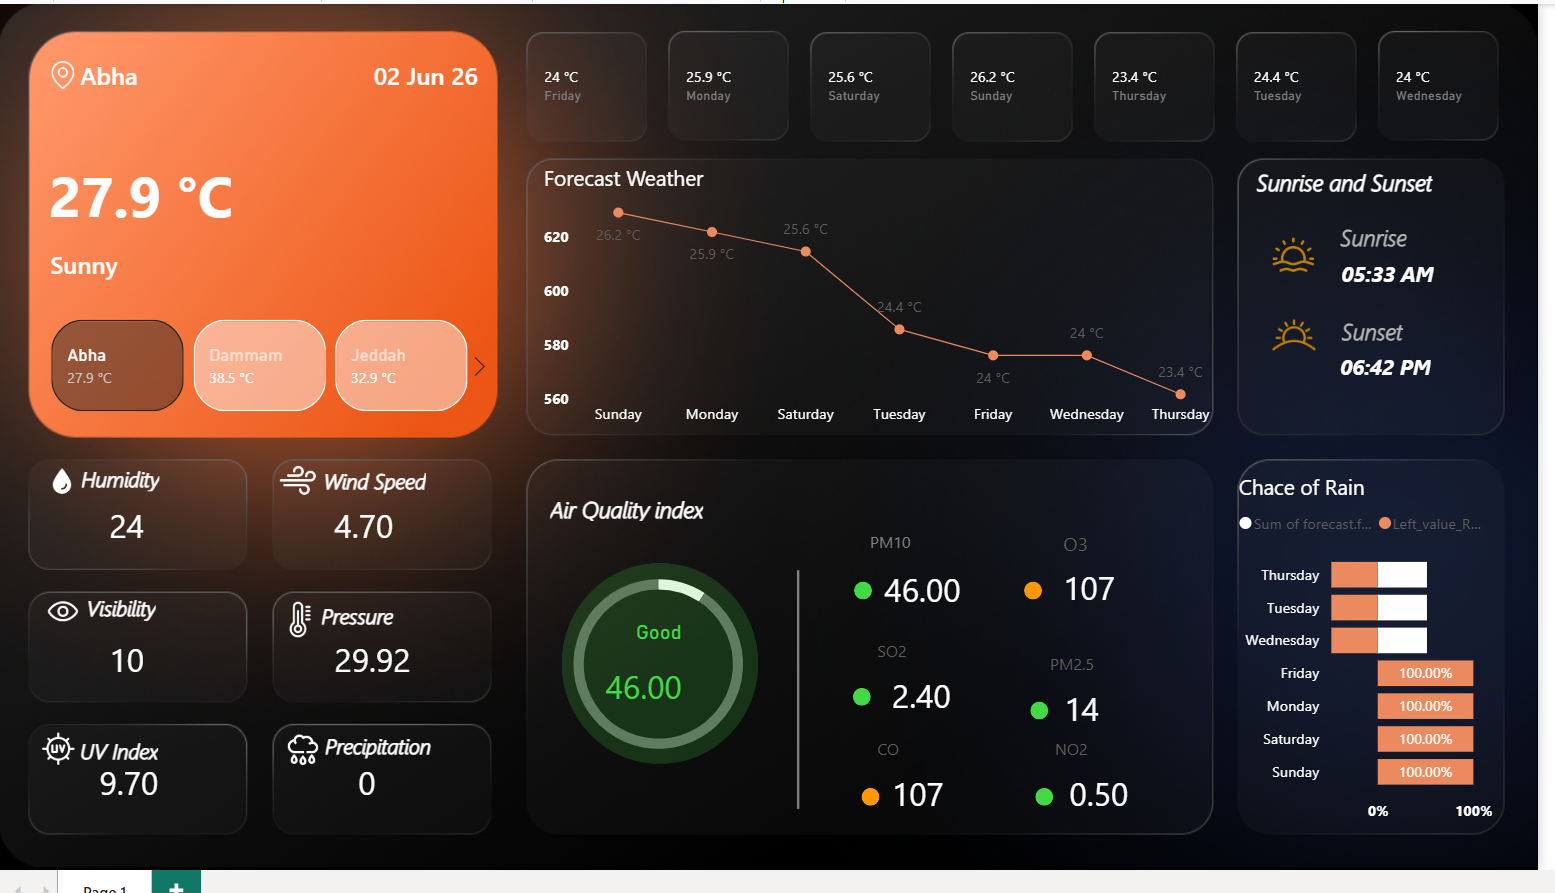

Layout of this report page (visuals, bound fields, positions):
{"tool":"powerbi","page":{"name":"Page 1","canvas":[1280,720],"ordinal":0},"visuals":[{"type":"advancedSlicerVisual","fields":{"Values":["Locations.location.name"]},"box":[19.2,258,396.6,86.4],"z":0},{"type":"shape","box":[41.2,98.8,300.5,118],"z":1000},{"type":"shape","box":[42.5,186.2,102.5,60],"z":2000},{"type":"shape","box":[67.2,0,300.5,118],"z":3000},{"type":"shape","box":[247,0,150.9,118],"z":4000},{"type":"image","box":[28.8,42.5,48,32.9],"z":5000},{"type":"cardVisual","fields":{"Data":["Sum(Current.current.humidity)"]},"box":[75.1,394.2,117.7,70.9],"z":6000},{"type":"cardVisual","fields":{"Data":["Sum(Current.current.wind_kph)"]},"box":[262.3,394.2,117.7,70.9],"z":7000},{"type":"cardVisual","fields":{"Data":["Sum(Current.current.pressure_in)"]},"box":[262.3,504.7,117.7,70.9],"z":8000},{"type":"cardVisual","fields":{"Data":["Sum(Current.current.vis_km)"]},"box":[75.1,504.7,117.7,70.9],"z":9000},{"type":"cardVisual","fields":{"Data":["Sum(Current.current.uv)"]},"box":[66.6,606.8,117.7,70.9],"z":10000},{"type":"cardVisual","fields":{"Data":["Sum(Forcast_Day.current.precip_in)"]},"box":[282.1,606.8,117.7,70.9],"z":11000},{"type":"advancedSlicerVisual","fields":{"Values":["Forcast_Day.Day_Name"]},"box":[435.3,0,833.7,134.7],"z":12000},{"type":"lineChart","title":"Forecast Weather","fields":{"Y":["Sum(Forcast_Day.forecast.forecastday.day.avgtemp_c)"],"Category":["Forcast_Day.Day_Name"]},"box":[448.1,133.4,570.8,225.8],"z":13000},{"type":"shape","box":[1116.2,208.8,116.2,30],"z":14000},{"type":"shape","box":[1115,286.2,116.2,30],"z":15000},{"type":"shape","box":[1115,178.8,116.2,30],"z":16000},{"type":"shape","box":[1116.2,256.2,116.2,30],"z":17000},{"type":"shape","box":[1045,135,166.2,22.5],"z":18000},{"type":"image","box":[1051.2,186.2,48.8,45],"z":19000},{"type":"image","box":[1045,246.2,62.5,57.5],"z":20000},{"type":"hundredPercentStackedBarChart","title":"Chace of Rain","fields":{"Y":["Sum(Forcast_Day.forecast.forecastday.day.daily_chance_of_rain)","Current.Left_value_Rain"],"Category":["Forcast_Day.Day_Name"]},"box":[1026.2,390,221.2,300],"z":21000},{"type":"shape","box":[458.8,407.5,166.2,22.5],"z":22000},{"type":"cardVisual","fields":{"Data":["Sum(Current.current.air_quality.o3)"]},"box":[867.5,418.8,87.5,101.2],"z":23000},{"type":"cardVisual","fields":{"Data":["Sum(Current.current.air_quality.co)"]},"box":[725,605,117.5,71.2],"z":24000},{"type":"cardVisual","fields":{"Data":["Sum(Current.current.air_quality.no2)"]},"box":[872.5,605,117.5,71.2],"z":25000},{"type":"cardVisual","fields":{"Data":["Sum(Current.current.air_quality.pm2_5)"]},"box":[868.8,533.8,117.5,71.2],"z":26000},{"type":"cardVisual","fields":{"Data":["Sum(Current.current.air_quality.so2)"]},"box":[725,523.8,117.5,71.2],"z":27000},{"type":"cardVisual","fields":{"Data":["Sum(Current.current.air_quality.pm10)"]},"box":[718.8,433.8,123.8,75],"z":28000},{"type":"shape","box":[711.2,480,15,15],"z":29000},{"type":"shape","box":[717.5,651.2,15,15],"z":30000},{"type":"shape","box":[710,568.8,15,15],"z":31000},{"type":"shape","box":[852.5,480,15,15],"z":32000},{"type":"shape","box":[857.5,580,15,15],"z":33000},{"type":"shape","box":[861.2,651.2,15,15],"z":34000},{"type":"shape","box":[610,471.2,108.8,198.8],"z":35000},{"type":"cardVisual","fields":{"Data":["Sum(Current.current.air_quality.pm10)"]},"box":[487.5,512.5,122.5,82.5],"z":36000},{"type":"donutChart","fields":{"Y":["Sum(Current.current.air_quality.pm10)","_Measures.Left_value_PM10"]},"box":[455,440,186.2,218.8],"z":37000},{"type":"shape","box":[467.5,465,163.8,167.5],"z":38000},{"type":"shape","box":[269.8,384.9,166.3,22.1],"z":38001},{"type":"shape","box":[68.6,380.2,93,26.7],"z":38002},{"type":"shape","box":[268.6,496.5,166.3,22.1],"z":38003},{"type":"shape","box":[73.3,490.7,166.3,22.1],"z":38004},{"type":"shape","box":[270.9,604.7,166.3,22.1],"z":38005},{"type":"shape","box":[67.4,609.3,166.3,22.1],"z":38006},{"type":"image","box":[230.2,600,44.2,40.7],"z":38007},{"type":"image","box":[230.2,480.2,39.5,62.8],"z":38008},{"type":"image","box":[30.2,597.7,38.4,43],"z":38009},{"type":"image","box":[31.4,484.9,44.2,39.5],"z":38010},{"type":"image","box":[227.9,372.1,41.9,47.7],"z":38011},{"type":"image","box":[36,377.9,32.6,37.2],"z":38013}]}

Visuals, with their boxes on the page's 1280x720 design canvas (x1, y1, x2, y2). These are canvas units, not pixel positions in the 1555x893 screenshot, which may show the page scaled, cropped or inside an application window:
advancedSlicerVisual - Locations.location.name: [x1=19, y1=258, x2=416, y2=344]
shape: [x1=41, y1=99, x2=342, y2=217]
shape: [x1=42, y1=186, x2=145, y2=246]
shape: [x1=67, y1=0, x2=368, y2=118]
shape: [x1=247, y1=0, x2=398, y2=118]
image: [x1=29, y1=42, x2=77, y2=75]
cardVisual - Sum(Current.current.humidity): [x1=75, y1=394, x2=193, y2=465]
cardVisual - Sum(Current.current.wind_kph): [x1=262, y1=394, x2=380, y2=465]
cardVisual - Sum(Current.current.pressure_in): [x1=262, y1=505, x2=380, y2=576]
cardVisual - Sum(Current.current.vis_km): [x1=75, y1=505, x2=193, y2=576]
cardVisual - Sum(Current.current.uv): [x1=67, y1=607, x2=184, y2=678]
cardVisual - Sum(Forcast_Day.current.precip_in): [x1=282, y1=607, x2=400, y2=678]
advancedSlicerVisual - Forcast_Day.Day_Name: [x1=435, y1=0, x2=1269, y2=135]
"Forecast Weather" lineChart: [x1=448, y1=133, x2=1019, y2=359]
shape: [x1=1116, y1=209, x2=1232, y2=239]
shape: [x1=1115, y1=286, x2=1231, y2=316]
shape: [x1=1115, y1=179, x2=1231, y2=209]
shape: [x1=1116, y1=256, x2=1232, y2=286]
shape: [x1=1045, y1=135, x2=1211, y2=158]
image: [x1=1051, y1=186, x2=1100, y2=231]
image: [x1=1045, y1=246, x2=1108, y2=304]
"Chace of Rain" hundredPercentStackedBarChart: [x1=1026, y1=390, x2=1247, y2=690]
shape: [x1=459, y1=408, x2=625, y2=430]
cardVisual - Sum(Current.current.air_quality.o3): [x1=868, y1=419, x2=955, y2=520]
cardVisual - Sum(Current.current.air_quality.co): [x1=725, y1=605, x2=842, y2=676]
cardVisual - Sum(Current.current.air_quality.no2): [x1=872, y1=605, x2=990, y2=676]
cardVisual - Sum(Current.current.air_quality.pm2_5): [x1=869, y1=534, x2=986, y2=605]
cardVisual - Sum(Current.current.air_quality.so2): [x1=725, y1=524, x2=842, y2=595]
cardVisual - Sum(Current.current.air_quality.pm10): [x1=719, y1=434, x2=843, y2=509]
shape: [x1=711, y1=480, x2=726, y2=495]
shape: [x1=718, y1=651, x2=732, y2=666]
shape: [x1=710, y1=569, x2=725, y2=584]
shape: [x1=852, y1=480, x2=868, y2=495]
shape: [x1=858, y1=580, x2=872, y2=595]
shape: [x1=861, y1=651, x2=876, y2=666]
shape: [x1=610, y1=471, x2=719, y2=670]
cardVisual - Sum(Current.current.air_quality.pm10): [x1=488, y1=512, x2=610, y2=595]
donutChart - Sum(Current.current.air_quality.pm10) x _Measures.Left_value_PM10: [x1=455, y1=440, x2=641, y2=659]
shape: [x1=468, y1=465, x2=631, y2=632]
shape: [x1=270, y1=385, x2=436, y2=407]
shape: [x1=69, y1=380, x2=162, y2=407]
shape: [x1=269, y1=496, x2=435, y2=519]
shape: [x1=73, y1=491, x2=240, y2=513]
shape: [x1=271, y1=605, x2=437, y2=627]
shape: [x1=67, y1=609, x2=234, y2=631]
image: [x1=230, y1=600, x2=274, y2=641]
image: [x1=230, y1=480, x2=270, y2=543]
image: [x1=30, y1=598, x2=69, y2=641]
image: [x1=31, y1=485, x2=76, y2=524]
image: [x1=228, y1=372, x2=270, y2=420]
image: [x1=36, y1=378, x2=69, y2=415]
